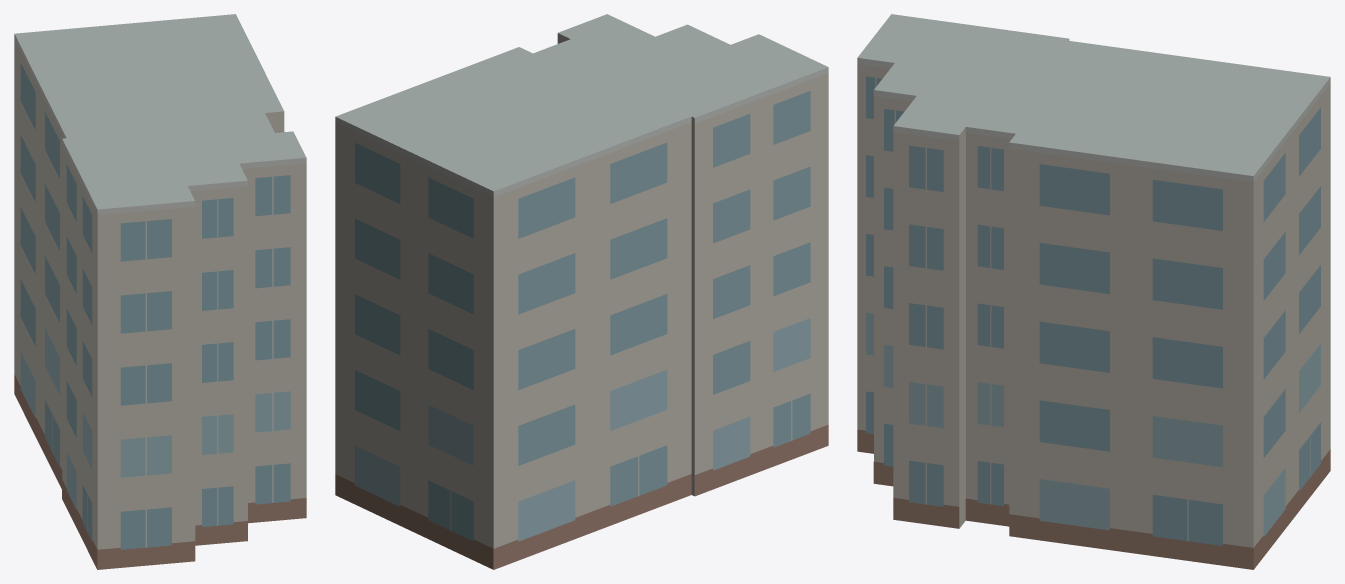
File: survey-upis-32598767.glb
3 renders of one model, left to right at view 1: azimuth 30°, elevation 25°; view 2: azimuth 150°, elevation 25°; view 3: azimuth 270°, elevation 25°, orthographic. The views are drawn at different scales.
Visible parts, largest first — view 1: survey-upis-32598767.tmp; view 2: survey-upis-32598767.tmp; view 3: survey-upis-32598767.tmp.
Boxes of the visible parts, left/top/right/bottom form: survey-upis-32598767.tmp: left=14, top=14, right=306, bottom=569; survey-upis-32598767.tmp: left=335, top=14, right=828, bottom=569; survey-upis-32598767.tmp: left=857, top=14, right=1330, bottom=569.
Bounding box in the file's own units: 14.05 × 15.9 × 17.33.
